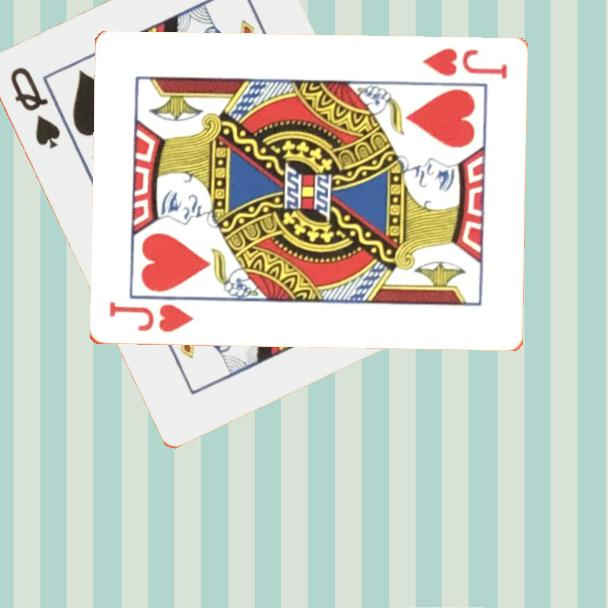h11: (105, 298, 196, 335), (419, 45, 510, 82)
s12: (6, 63, 63, 152)
